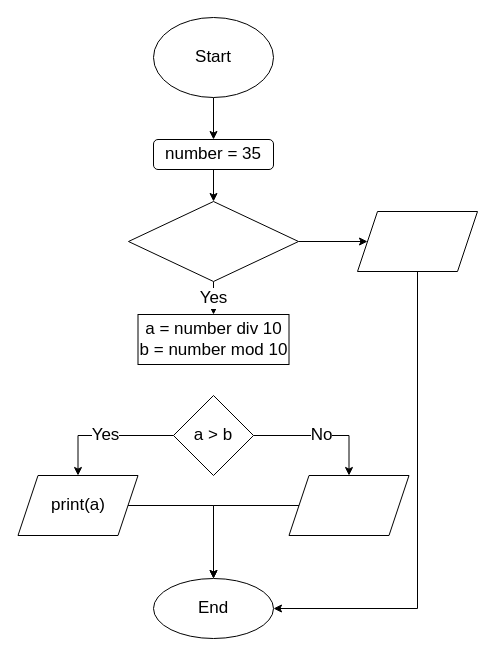
The diagram is 495 pixels wide and 656 high, and some of its shapes have lost their labels. Each missing label, with the centre of its shape:
10<=number<= 99: [213,241]
print("Error"): [417,241]
print(b): [348,505]
